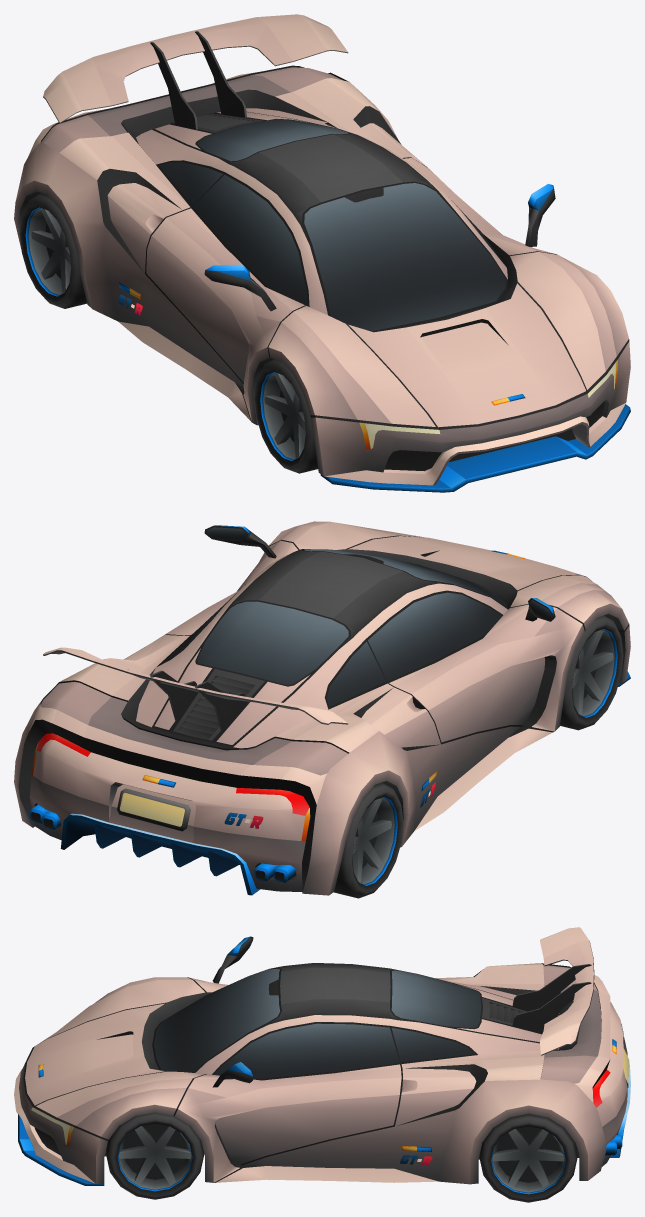
File: VHC0110012.FBX
3 views of the same model, one above another, from view 1: azimuth 30°, elevation 25°; view 2: azimuth 150°, elevation 25°; view 3: azimuth 270°, elevation 25° (orthographic). The views are drawn at different scales.
Parts seen in each view (by area): view 1: smVHC0110012; view 2: smVHC0110012; view 3: smVHC0110012.
Part boxes in pixels (x1,y1,x2,y2): smVHC0110012: (14, 14, 630, 492); smVHC0110012: (14, 521, 630, 898); smVHC0110012: (14, 927, 630, 1202).
Size of the model in its own units: 1.82 by 1 by 3.38.
1 material, 1 textured.
